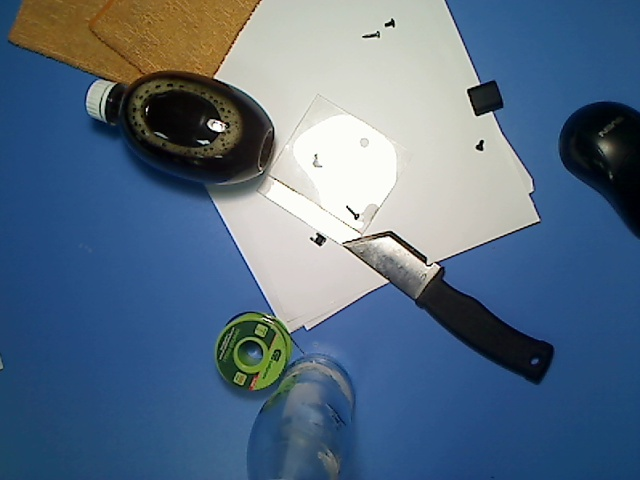plast_bottle: (82, 62, 282, 196)
